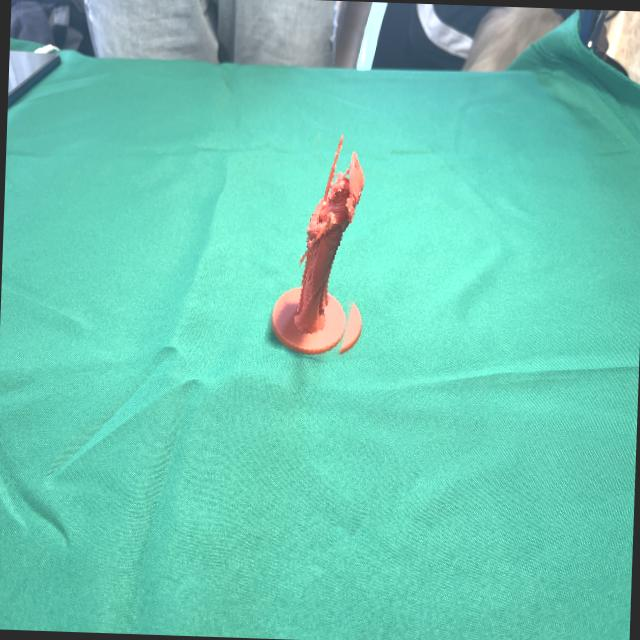amon: (272, 130, 380, 362)
